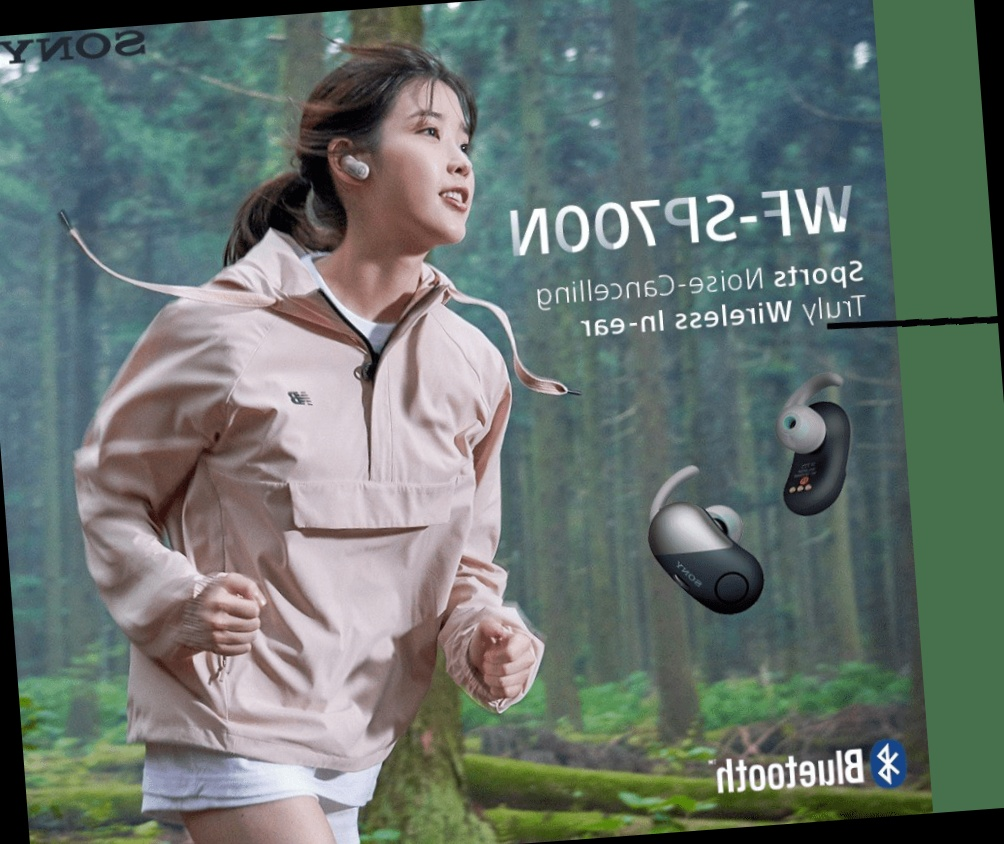earphone: (325, 135, 371, 189)
